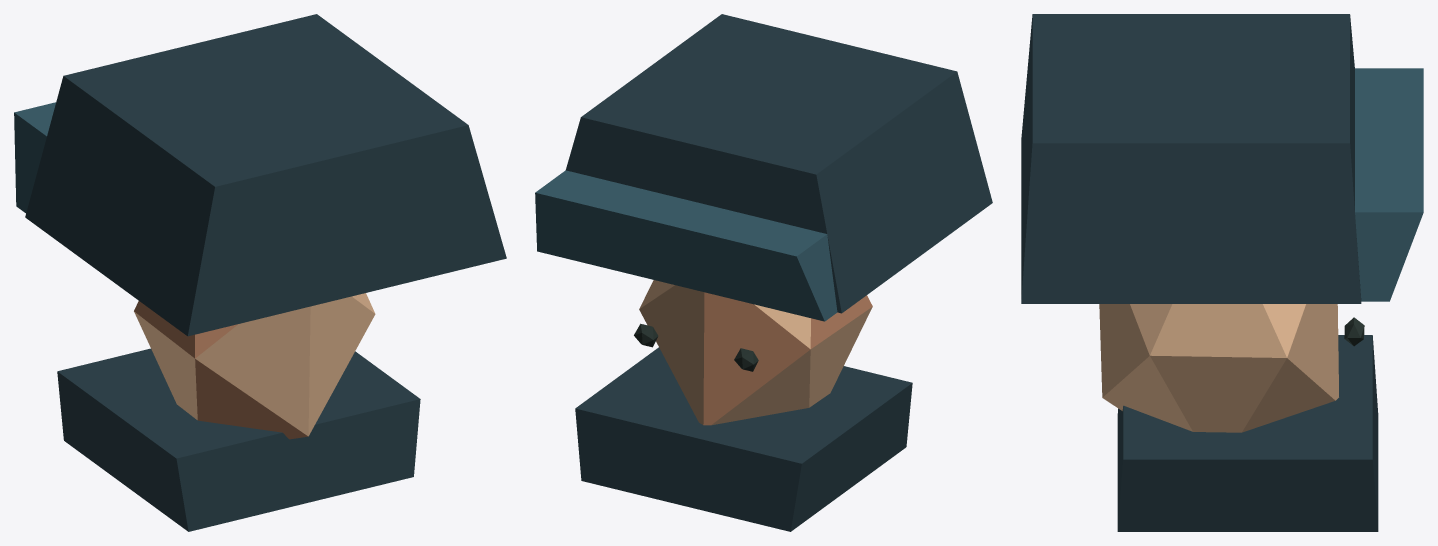
Rendered from adventurer_head.obj.
The picture shows the model from 3 angles, left to right: view 1: azimuth 30°, elevation 25°; view 2: azimuth 150°, elevation 25°; view 3: azimuth 270°, elevation 25°; orthographic projection. The views are drawn at different scales.
Parts seen in each view (by area): view 1: AdventurerHead; view 2: AdventurerHead; view 3: AdventurerHead.
Boxes of the visible parts, x1,y1,x2,y2 form: AdventurerHead: (14,14,506,531); AdventurerHead: (535,14,992,531); AdventurerHead: (1021,14,1423,531).
Size of the model in its own units: 0.68 by 0.77 by 0.71.
